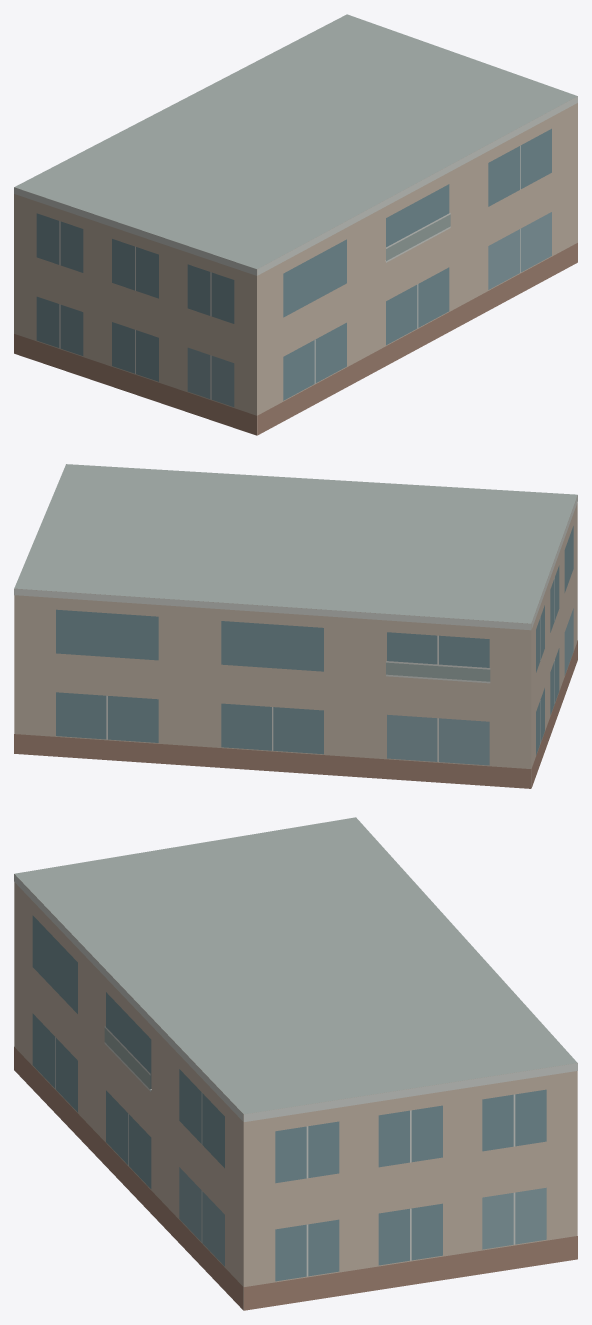
Rendered from survey-upis-32825931.glb.
The picture shows the model from 3 angles, top to bottom: view 1: azimuth 30°, elevation 25°; view 2: azimuth 150°, elevation 25°; view 3: azimuth 270°, elevation 25°; orthographic projection. The views are drawn at different scales.
Visible parts, largest first — view 1: survey-upis-32825931.tmp; view 2: survey-upis-32825931.tmp; view 3: survey-upis-32825931.tmp.
Boxes of the visible parts, x1,y1,x2,y2 form: survey-upis-32825931.tmp: (14, 14, 577, 435); survey-upis-32825931.tmp: (14, 464, 577, 788); survey-upis-32825931.tmp: (14, 817, 577, 1310).
Size of the model in its own units: 19.82 by 6.1 by 15.89.
